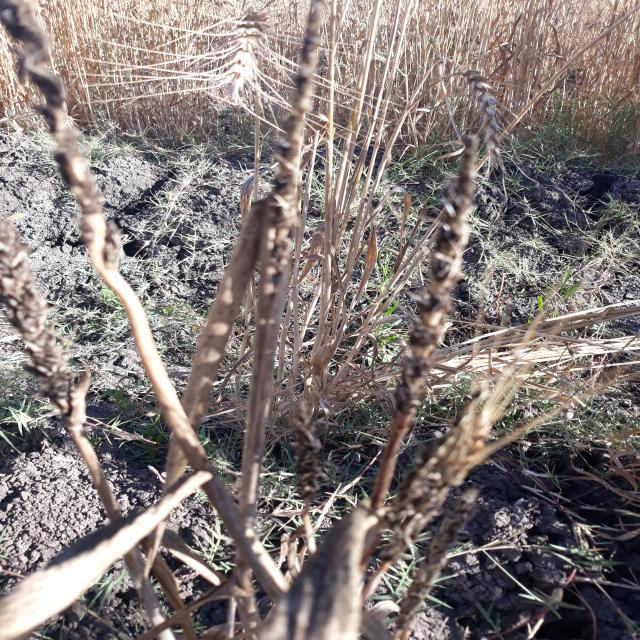loose_charred: (382, 65, 546, 419), (6, 0, 140, 285), (238, 5, 354, 316), (0, 216, 105, 440), (382, 484, 498, 630), (390, 384, 486, 538), (280, 396, 336, 520)
